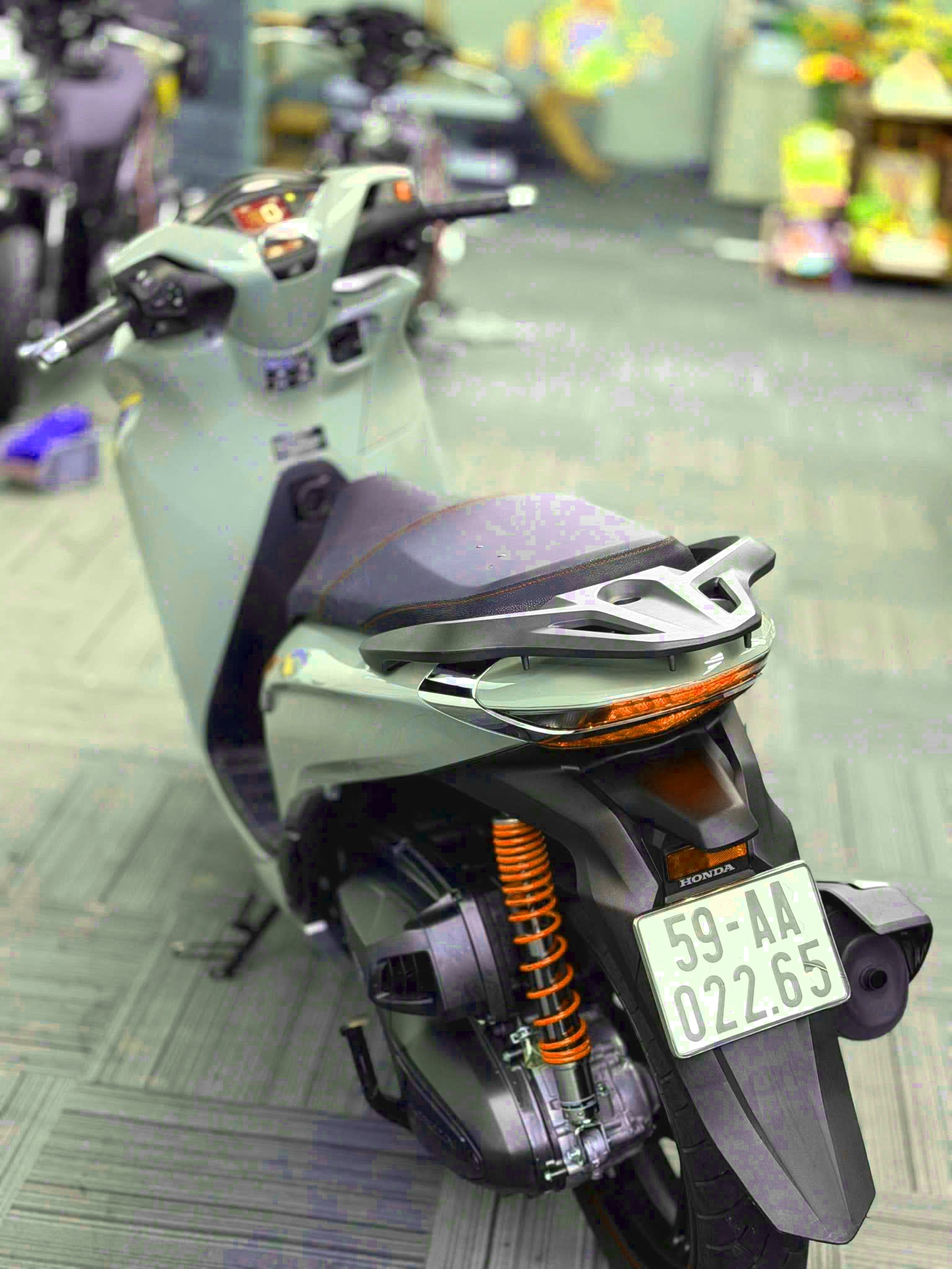Bien-so: (593, 869, 828, 1104)
